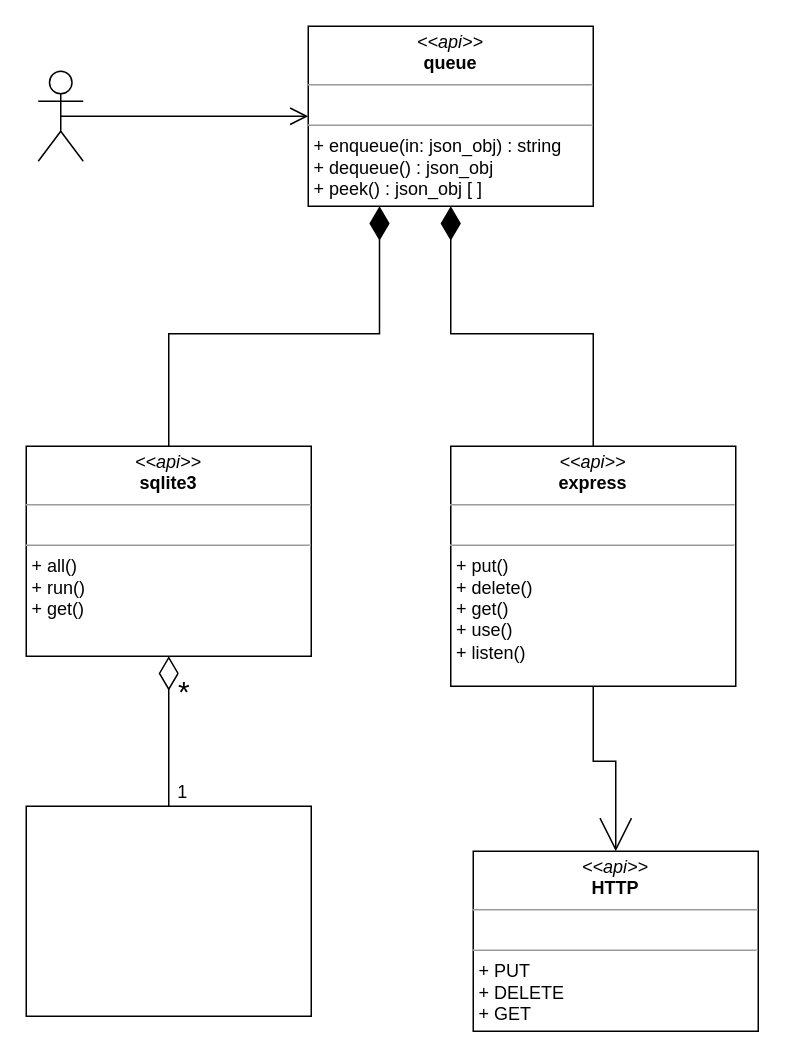
Some shapes in this 785 by 1058 pixel diagram are drawn without their labels. Each missing label, with the centre of its shape:
"Operator" belongs at (60,115).
"SQLite database + CREATE + DROP + SELECT + INSERT + DELETE" belongs at (168,910).
